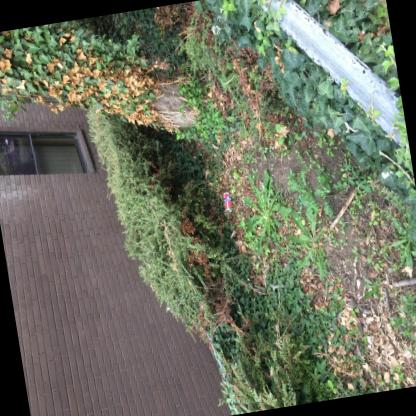Metal: (223, 191, 232, 211)
